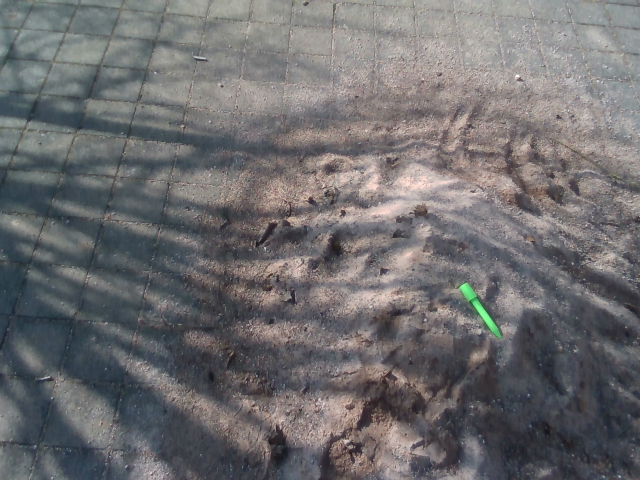Probe: (456, 279, 506, 345)
